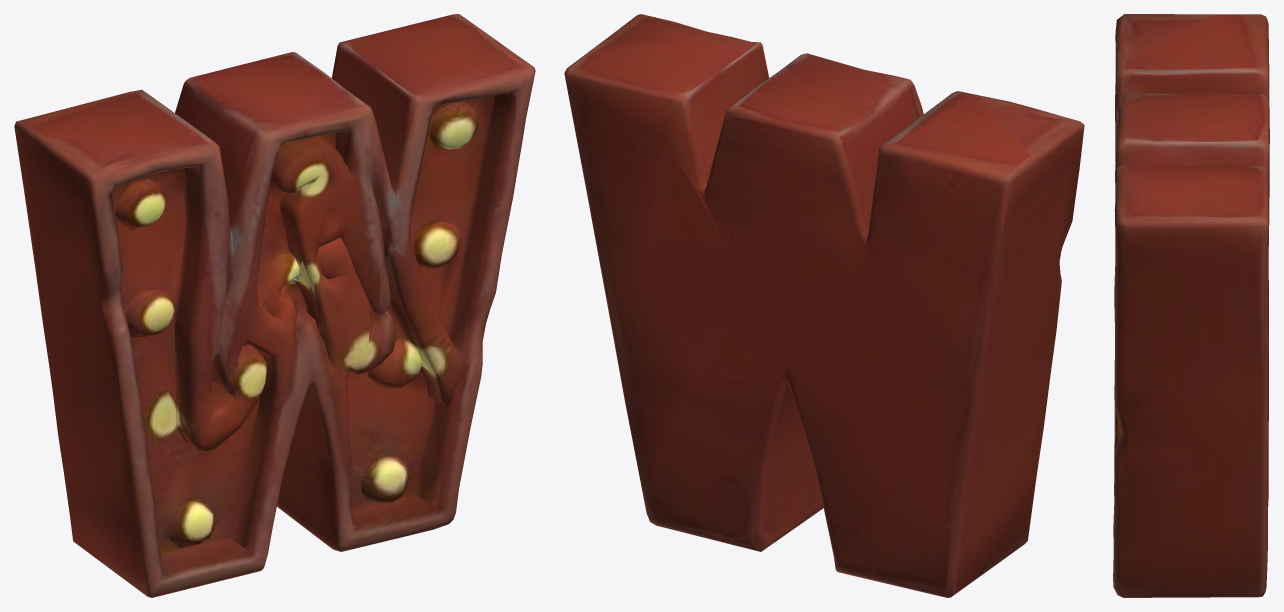
The model's file is letter_w_idle.glb.
3 views of the same model, side by side, from view 1: azimuth 30°, elevation 25°; view 2: azimuth 150°, elevation 25°; view 3: azimuth 270°, elevation 25° (orthographic). The views are drawn at different scales.
Visible parts, largest first — view 1: tmp_letters_u_z_0_3_02; view 2: tmp_letters_u_z_0_3_02; view 3: tmp_letters_u_z_0_3_02.
Part boxes in pixels (x1,y1,x2,y2): tmp_letters_u_z_0_3_02: (14,14,535,597); tmp_letters_u_z_0_3_02: (564,14,1084,597); tmp_letters_u_z_0_3_02: (1113,14,1269,597).
Size of the model in its own units: 1.07 by 0.9996 by 0.3378.
Materials: 1 (1 with a texture image).
